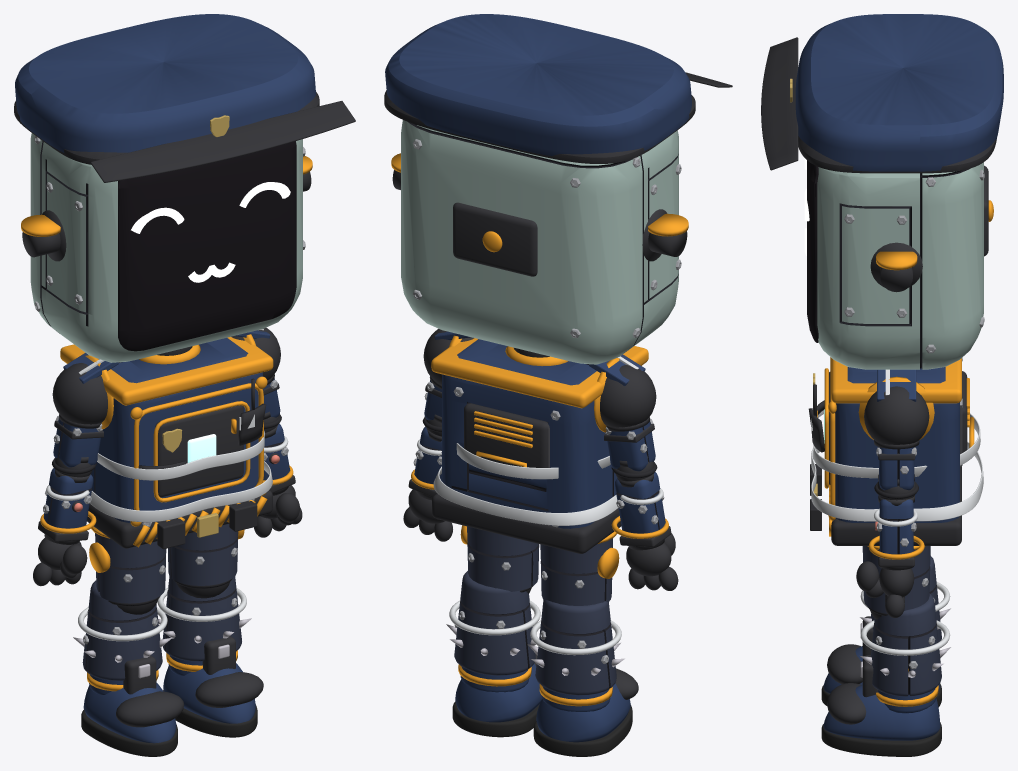
The model's file is staff-portsecurity-a.glb.
The picture shows the model from 3 angles, left to right: view 1: azimuth 30°, elevation 25°; view 2: azimuth 150°, elevation 25°; view 3: azimuth 270°, elevation 25°; orthographic projection. The views are drawn at different scales.
Parts seen in each view (by area): view 1: BITTY_Head_surface, BITTY_Torso_surface, BITTY_Ankle0_surface, BITTY_Ankle1_surface, BITTY_Elbow0_surface, BITTY_Knee0_surface, BITTY_Knee1_surface, BITTY_Leg0_surface, BITTY_Leg1_surface, BITTY_Arm0_surface, BITTY_Elbow1_surface, BITTY_Arm1_surface; view 2: BITTY_Head_surface, BITTY_Torso_surface, BITTY_Knee0_surface, BITTY_Knee1_surface, BITTY_Ankle0_surface, BITTY_Ankle1_surface, BITTY_Elbow0_surface, BITTY_Leg0_surface, BITTY_Leg1_surface, BITTY_Arm0_surface, BITTY_Elbow1_surface, BITTY_Arm1_surface; view 3: BITTY_Head_surface, BITTY_Torso_surface, BITTY_Ankle1_surface, BITTY_Knee1_surface, BITTY_Elbow1_surface, BITTY_Arm1_surface, BITTY_Ankle0_surface, BITTY_Leg1_surface, BITTY_Knee0_surface.
Part boxes in pixels (x1,y1,x2,y2): BITTY_Head_surface: (14,14,355,362); BITTY_Torso_surface: (52,327,280,549); BITTY_Ankle0_surface: (73,637,184,756); BITTY_Ankle1_surface: (158,618,263,737); BITTY_Elbow0_surface: (33,468,96,586); BITTY_Knee0_surface: (78,580,167,680); BITTY_Knee1_surface: (157,576,246,661); BITTY_Leg0_surface: (89,533,166,614); BITTY_Leg1_surface: (168,524,244,598); BITTY_Arm0_surface: (52,353,118,477); BITTY_Elbow1_surface: (254,423,302,537); BITTY_Arm1_surface: (235,329,281,432); BITTY_Head_surface: (384,14,732,364); BITTY_Torso_surface: (423,328,656,553); BITTY_Knee0_surface: (530,599,621,695); BITTY_Knee1_surface: (449,571,540,675); BITTY_Ankle0_surface: (527,643,638,756); BITTY_Ankle1_surface: (446,624,542,737); BITTY_Elbow0_surface: (611,472,678,590); BITTY_Leg0_surface: (540,538,619,605); BITTY_Leg1_surface: (460,525,539,593); BITTY_Arm0_surface: (589,354,657,481); BITTY_Elbow1_surface: (403,426,452,541); BITTY_Arm1_surface: (422,331,470,436); BITTY_Head_surface: (761,14,1003,369); BITTY_Torso_surface: (808,357,983,549); BITTY_Ankle1_surface: (821,647,950,756); BITTY_Knee1_surface: (860,593,950,696); BITTY_Elbow1_surface: (856,495,924,617); BITTY_Arm1_surface: (874,369,919,500); BITTY_Ankle0_surface: (821,608,950,707); BITTY_Leg1_surface: (862,546,930,619); BITTY_Knee0_surface: (860,556,950,641).
Size of the model in its own units: 0.755 by 1.65 by 0.5572.
Materials: 6 (6 with a texture image).
